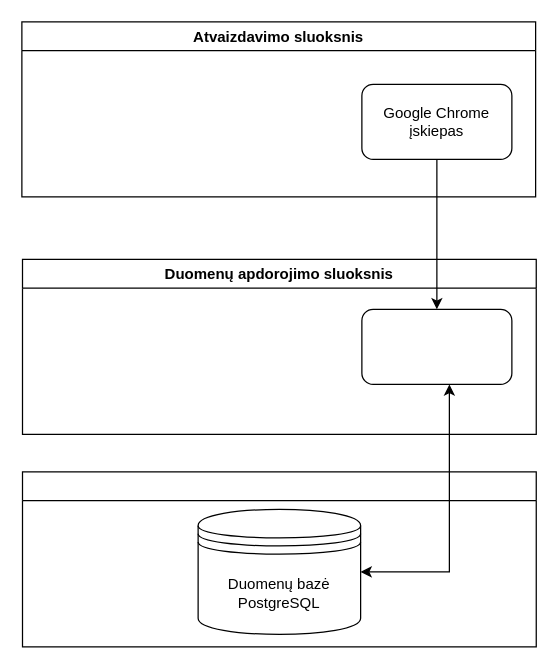
The diagram is 559 pixels wide and 669 high, and some of its shapes have lost their labels. The centre of each missing label's shape, as x and y in pixels:
Duomenų saugojimo sluoksnis: (x=278, y=559)
Java Spring Boot: (x=436, y=346)
